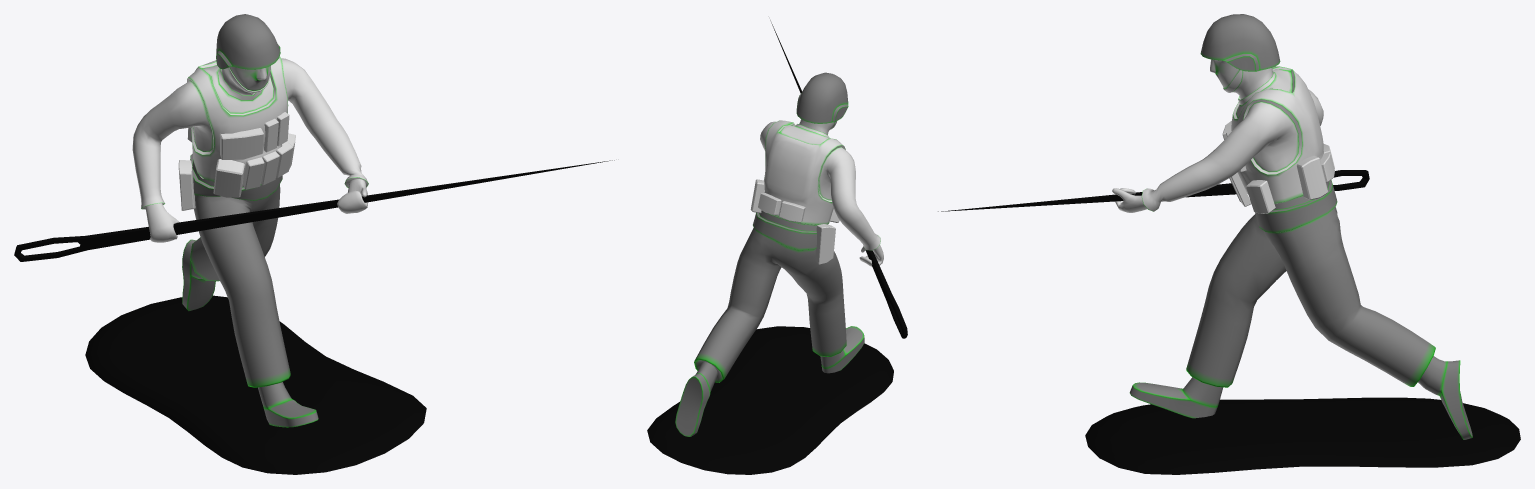
File: Melee_Enemy_01_MSH.fbx
The picture shows the model from 3 angles, left to right: view 1: azimuth 30°, elevation 25°; view 2: azimuth 150°, elevation 25°; view 3: azimuth 270°, elevation 25°; orthographic projection. The views are drawn at different scales.
Parts seen in each view (by area): view 1: Melee_Enemy_01; view 2: Melee_Enemy_01; view 3: Melee_Enemy_01.
Boxes of the visible parts, x1,y1,x2,y2 form: Melee_Enemy_01: (14,14,614,474); Melee_Enemy_01: (647,20,907,474); Melee_Enemy_01: (938,14,1520,474).
Bounding box in the file's own units: 188 × 188 × 242.
